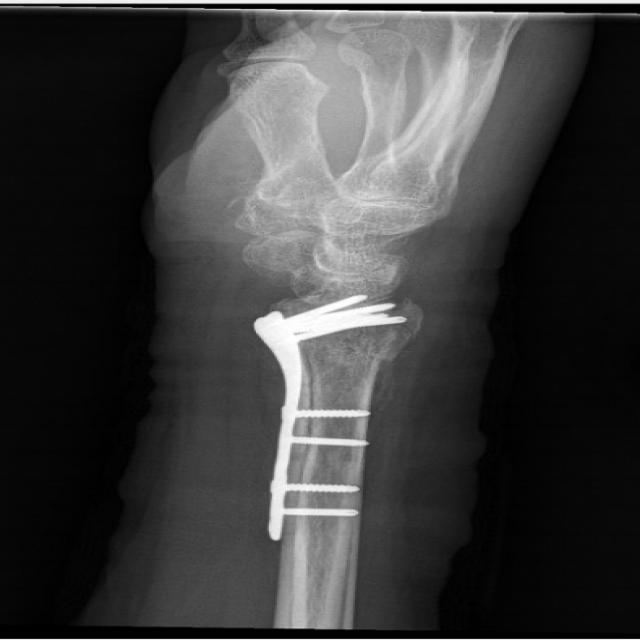x-ray: (246, 286, 415, 544)
